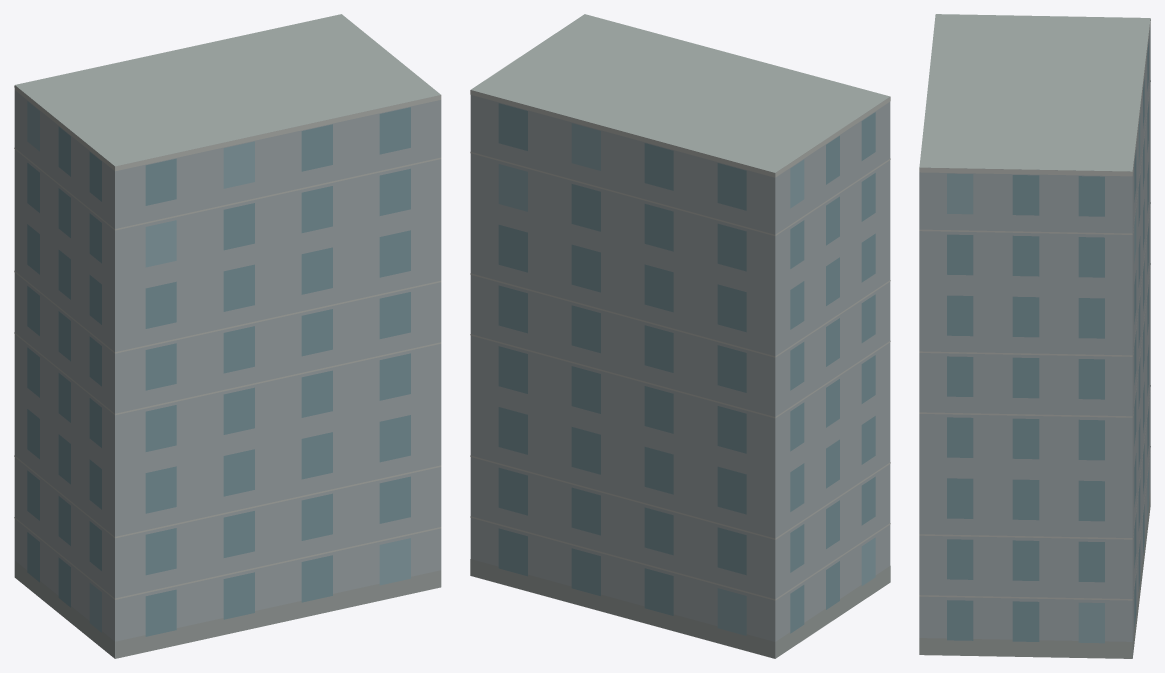
File: survey-upis-32765217.glb
3 views of the same model, side by side, from view 1: azimuth 30°, elevation 25°; view 2: azimuth 150°, elevation 25°; view 3: azimuth 270°, elevation 25° (orthographic).
Parts seen in each view (by area): view 1: survey-upis-32765217.tmp; view 2: survey-upis-32765217.tmp; view 3: survey-upis-32765217.tmp.
Boxes of the visible parts, x1,y1,x2,y2 form: survey-upis-32765217.tmp: [14, 14, 441, 658]; survey-upis-32765217.tmp: [470, 14, 890, 658]; survey-upis-32765217.tmp: [919, 14, 1150, 658].
Size of the model in its own units: 16.93 by 24.4 by 10.52.
